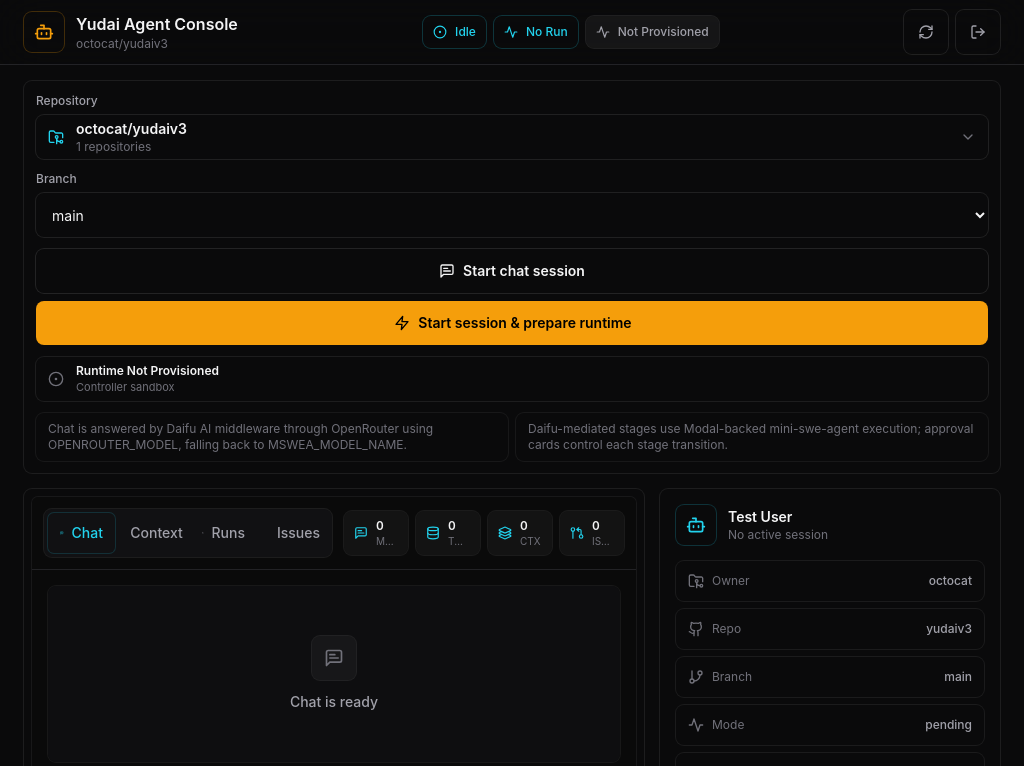
Scenario: AgentWorkbench pending questions › shows the run monitor without direct start controls
Click the button "Start session & prepare runtime": (512, 323) [36,301,988,345]
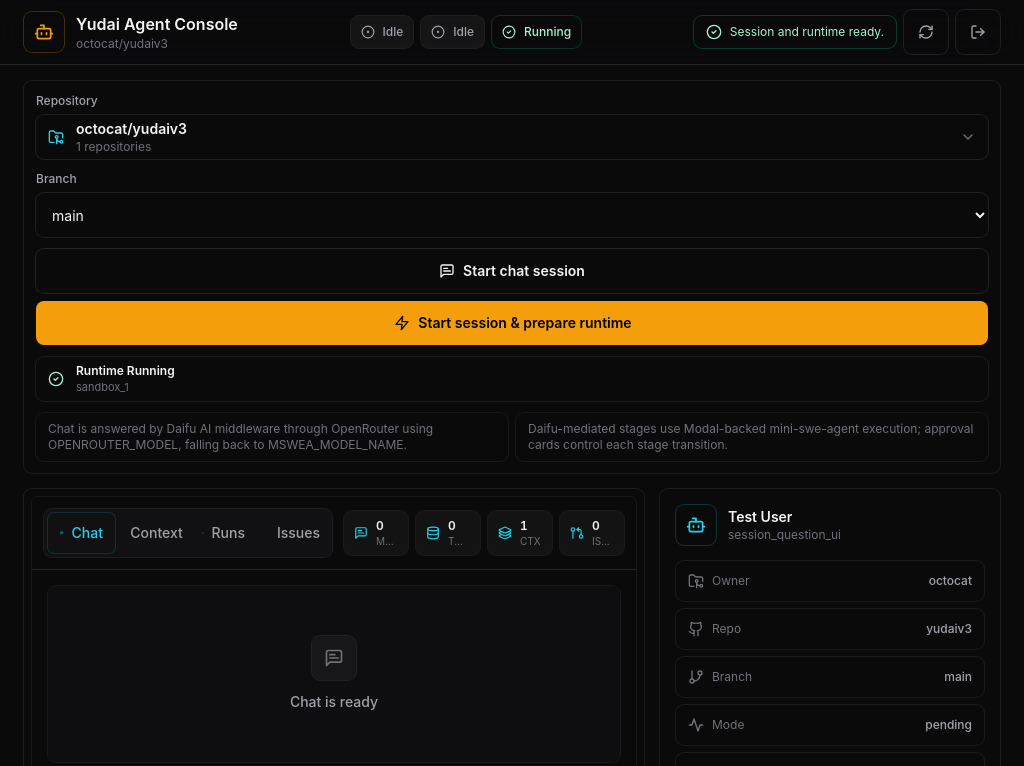
Click the button "Runs": (224, 533) [190,513,257,553]
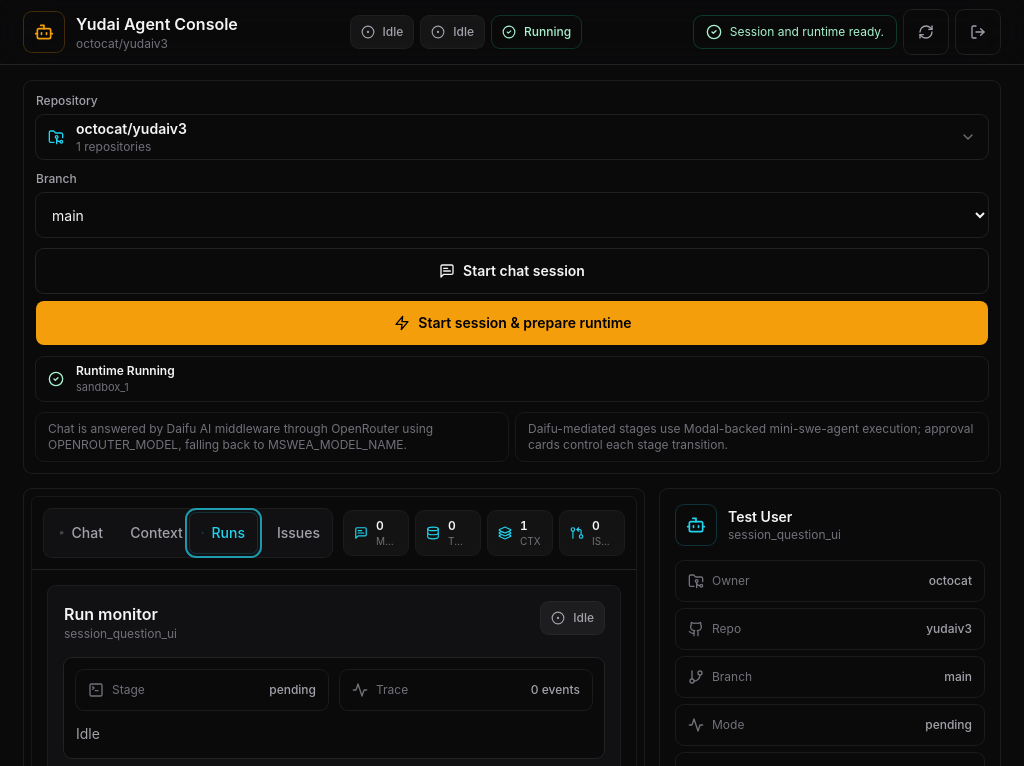
Check: the heading "Run monitor" is shown, box [64,604,158,624]
